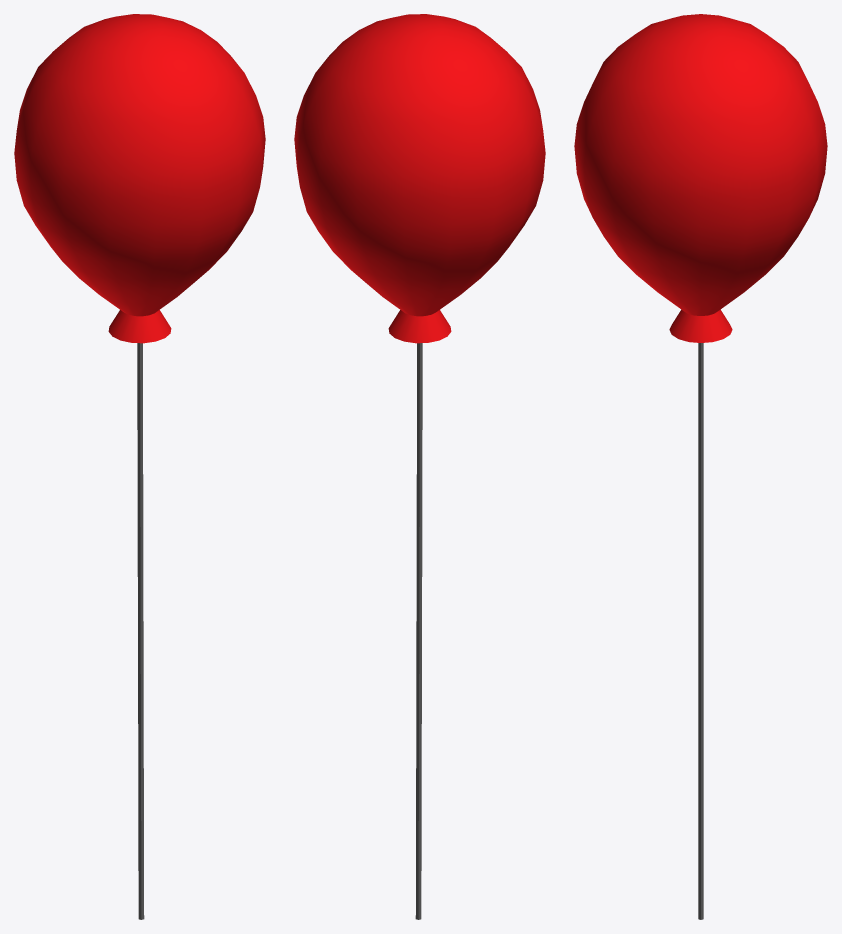
The model's file is fbx_balloon2.fbx.
3 views of the same model, side by side, from view 1: azimuth 30°, elevation 25°; view 2: azimuth 150°, elevation 25°; view 3: azimuth 270°, elevation 25° (orthographic).
Visible parts, largest first — view 1: fbx_balloon2; view 2: fbx_balloon2; view 3: fbx_balloon2.
Boxes of the visible parts, x1,y1,x2,y2 form: fbx_balloon2: (14, 14, 265, 919); fbx_balloon2: (294, 14, 545, 919); fbx_balloon2: (574, 14, 827, 919).
Bounding box in the file's own units: 0.7396 × 2.88 × 0.7396.
Materials: 1 (1 with a texture image).
